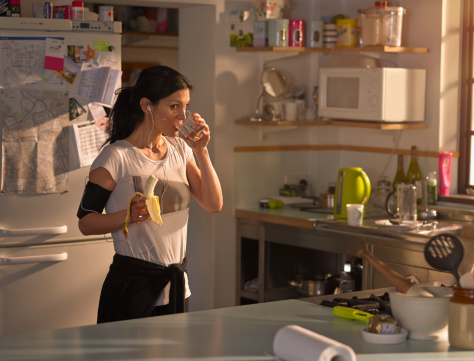em pe: (71, 59, 223, 334)
